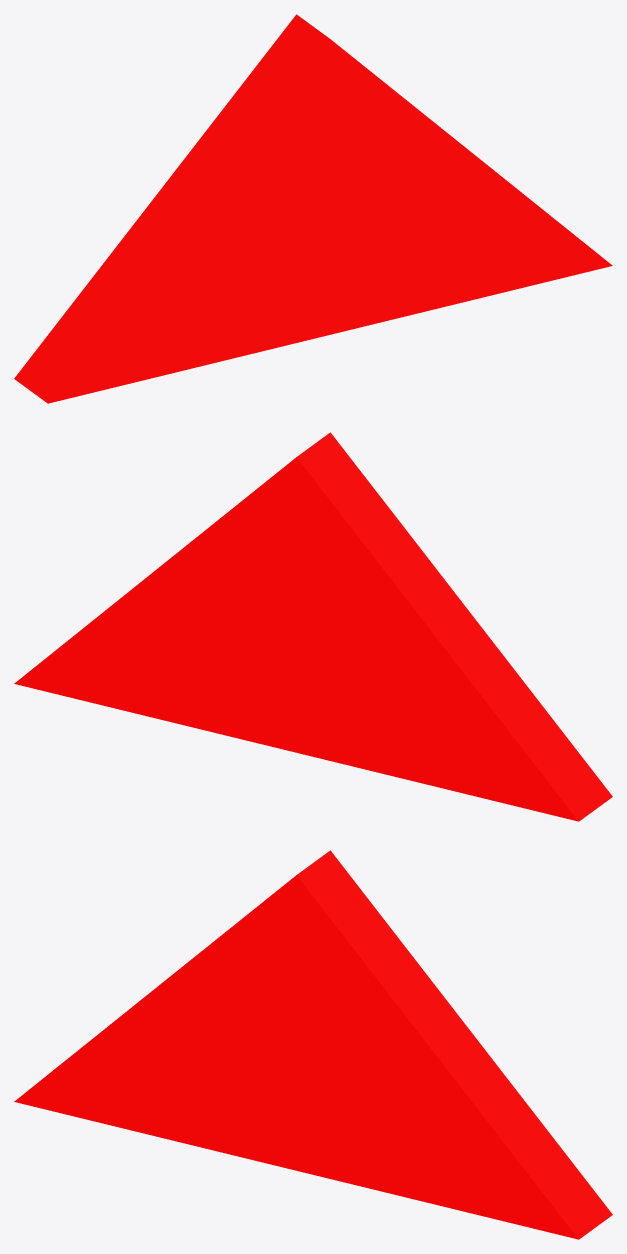
The model's file is Items.fbx_Tangram_Piece_3.fbx.
The picture shows the model from 3 angles, top to bottom: view 1: azimuth 30°, elevation 25°; view 2: azimuth 150°, elevation 25°; view 3: azimuth 330°, elevation 25°; orthographic projection.
Visible parts, largest first — view 1: IN.013; view 2: IN.013; view 3: IN.013.
Boxes of the visible parts, <box> form: IN.013: <box>14,14,612,403</box>; IN.013: <box>14,432,612,821</box>; IN.013: <box>14,850,612,1239</box>.
Size of the model in its own units: 48 by 24 by 5.
